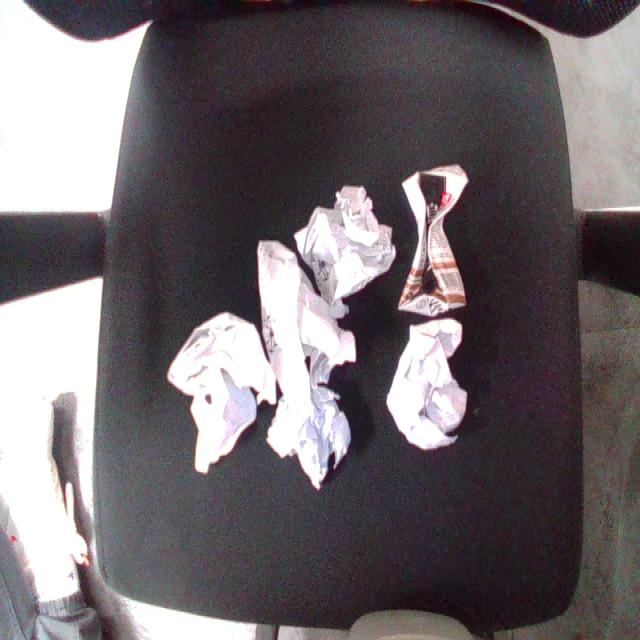paper: (125, 288, 303, 494), (251, 226, 368, 494), (279, 167, 411, 325), (379, 309, 482, 469)
